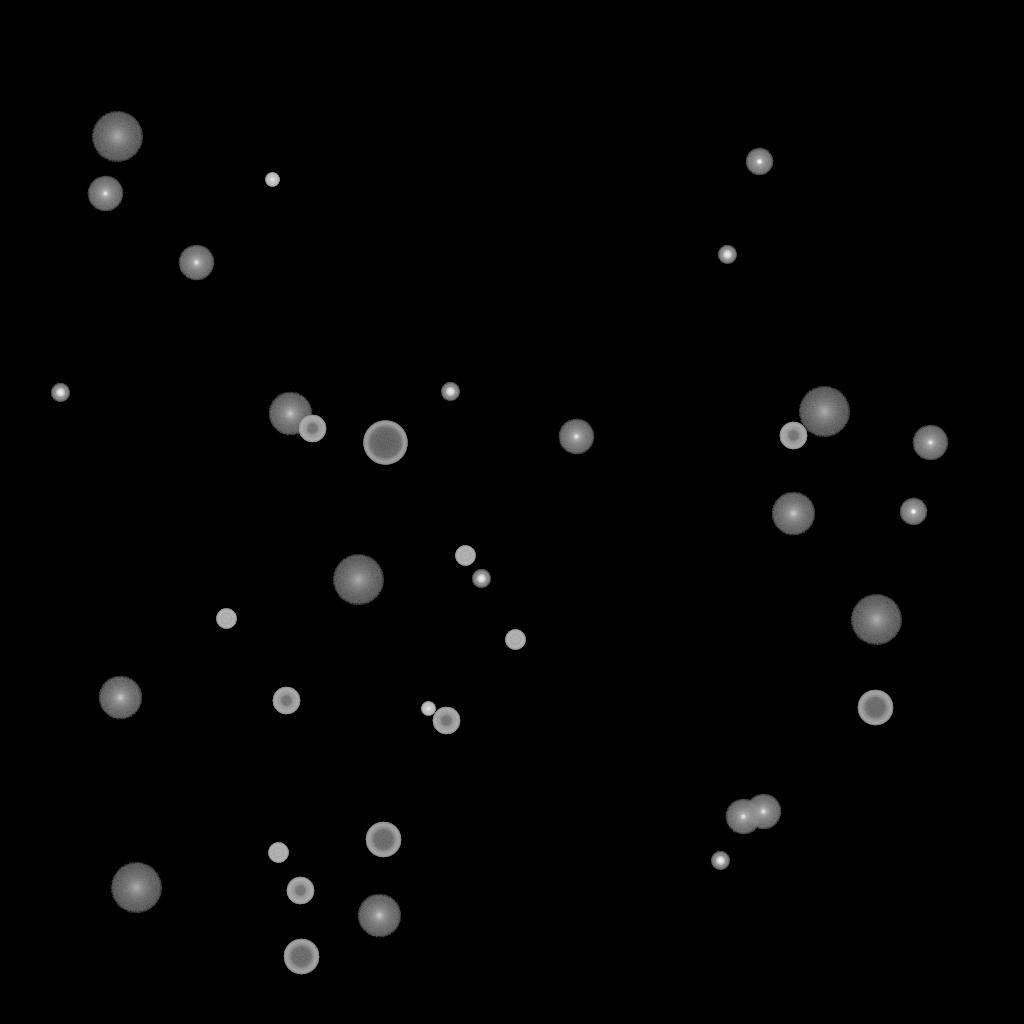depth:-10: (899, 498, 927, 526), (745, 148, 773, 176)
depth:-20: (711, 852, 729, 870), (441, 383, 459, 401), (51, 384, 69, 402), (472, 570, 490, 588), (718, 246, 736, 264)
depth:-30: (265, 173, 279, 187), (421, 702, 435, 716)
depth:-40: (268, 843, 288, 863), (455, 546, 475, 566), (216, 609, 236, 629), (505, 630, 525, 650)
depth:-50: (432, 707, 460, 735), (286, 877, 314, 905), (298, 415, 326, 443), (272, 687, 300, 715), (779, 422, 807, 450)
depth:-60: (365, 822, 401, 858), (283, 939, 319, 975), (857, 690, 893, 726)
depth:-70: (363, 421, 407, 465)
depth:0: (178, 245, 214, 281), (745, 794, 781, 830), (558, 419, 594, 455), (912, 425, 948, 461), (725, 799, 761, 835), (87, 176, 123, 212)
depth:10: (357, 894, 401, 938), (771, 492, 815, 536), (268, 392, 312, 436), (98, 676, 142, 720)
depth:20: (110, 863, 162, 913), (798, 387, 850, 437), (91, 112, 143, 162), (850, 595, 902, 645), (332, 555, 384, 605)
